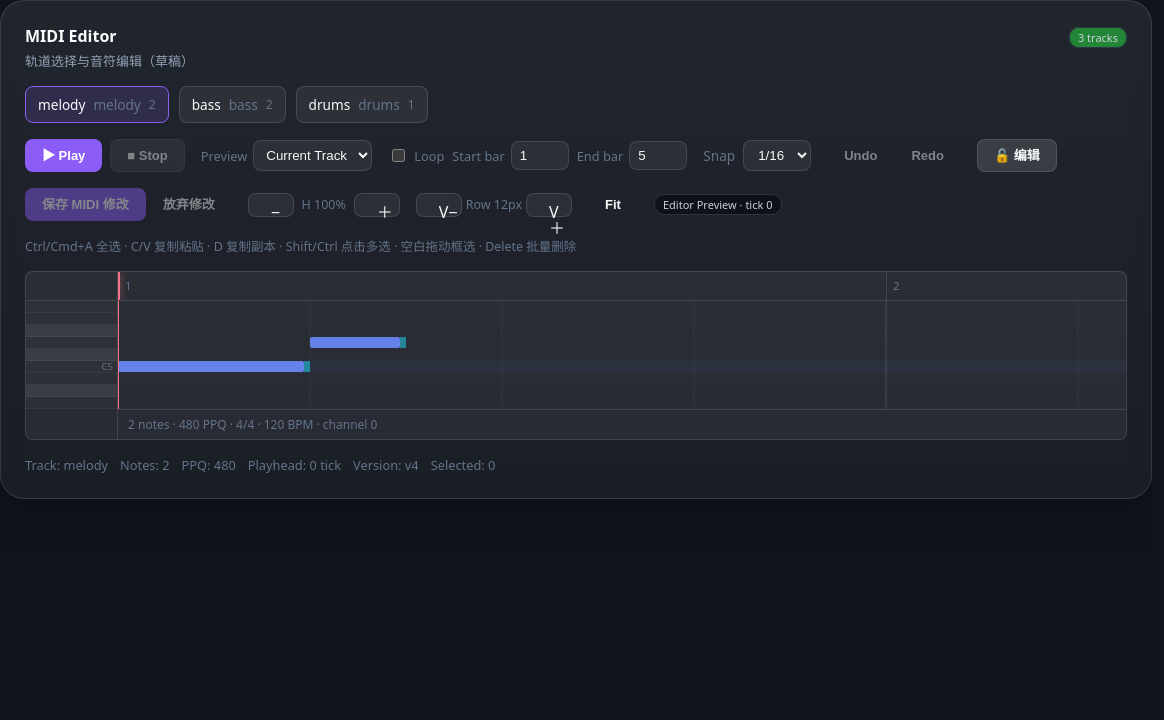
it: MidiEditor › switching to bass shows only bass notes
This screenshot has width=1164, height=720.
Click the option "bass bass 2".
click(232, 104)  # box top-left (179, 86), bottom-right (286, 123)
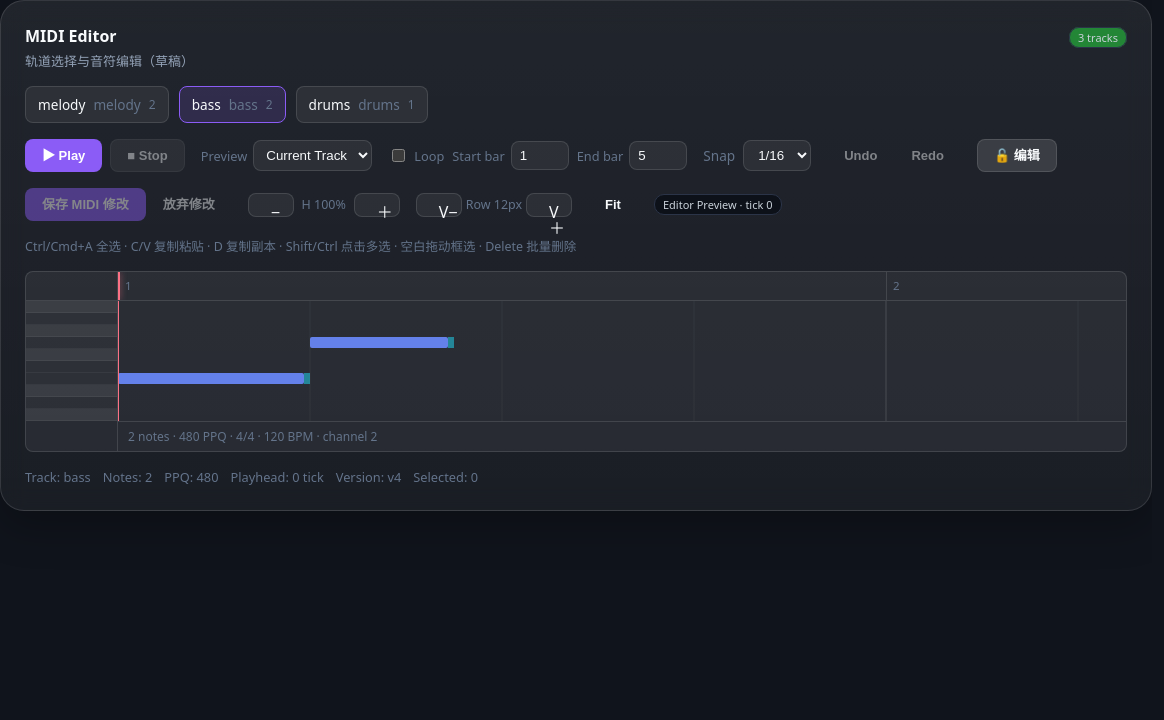
Expected: the text "Track: bass" is shown, top-left (25, 468), bottom-right (91, 486)
